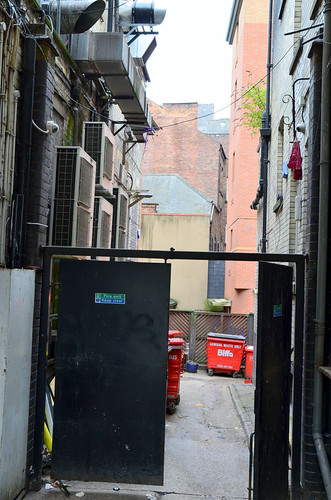building: (1, 1, 138, 254), (268, 3, 331, 500), (130, 102, 233, 302), (229, 1, 274, 312)
door: (43, 255, 175, 486)
dumpster: (201, 328, 251, 388)
